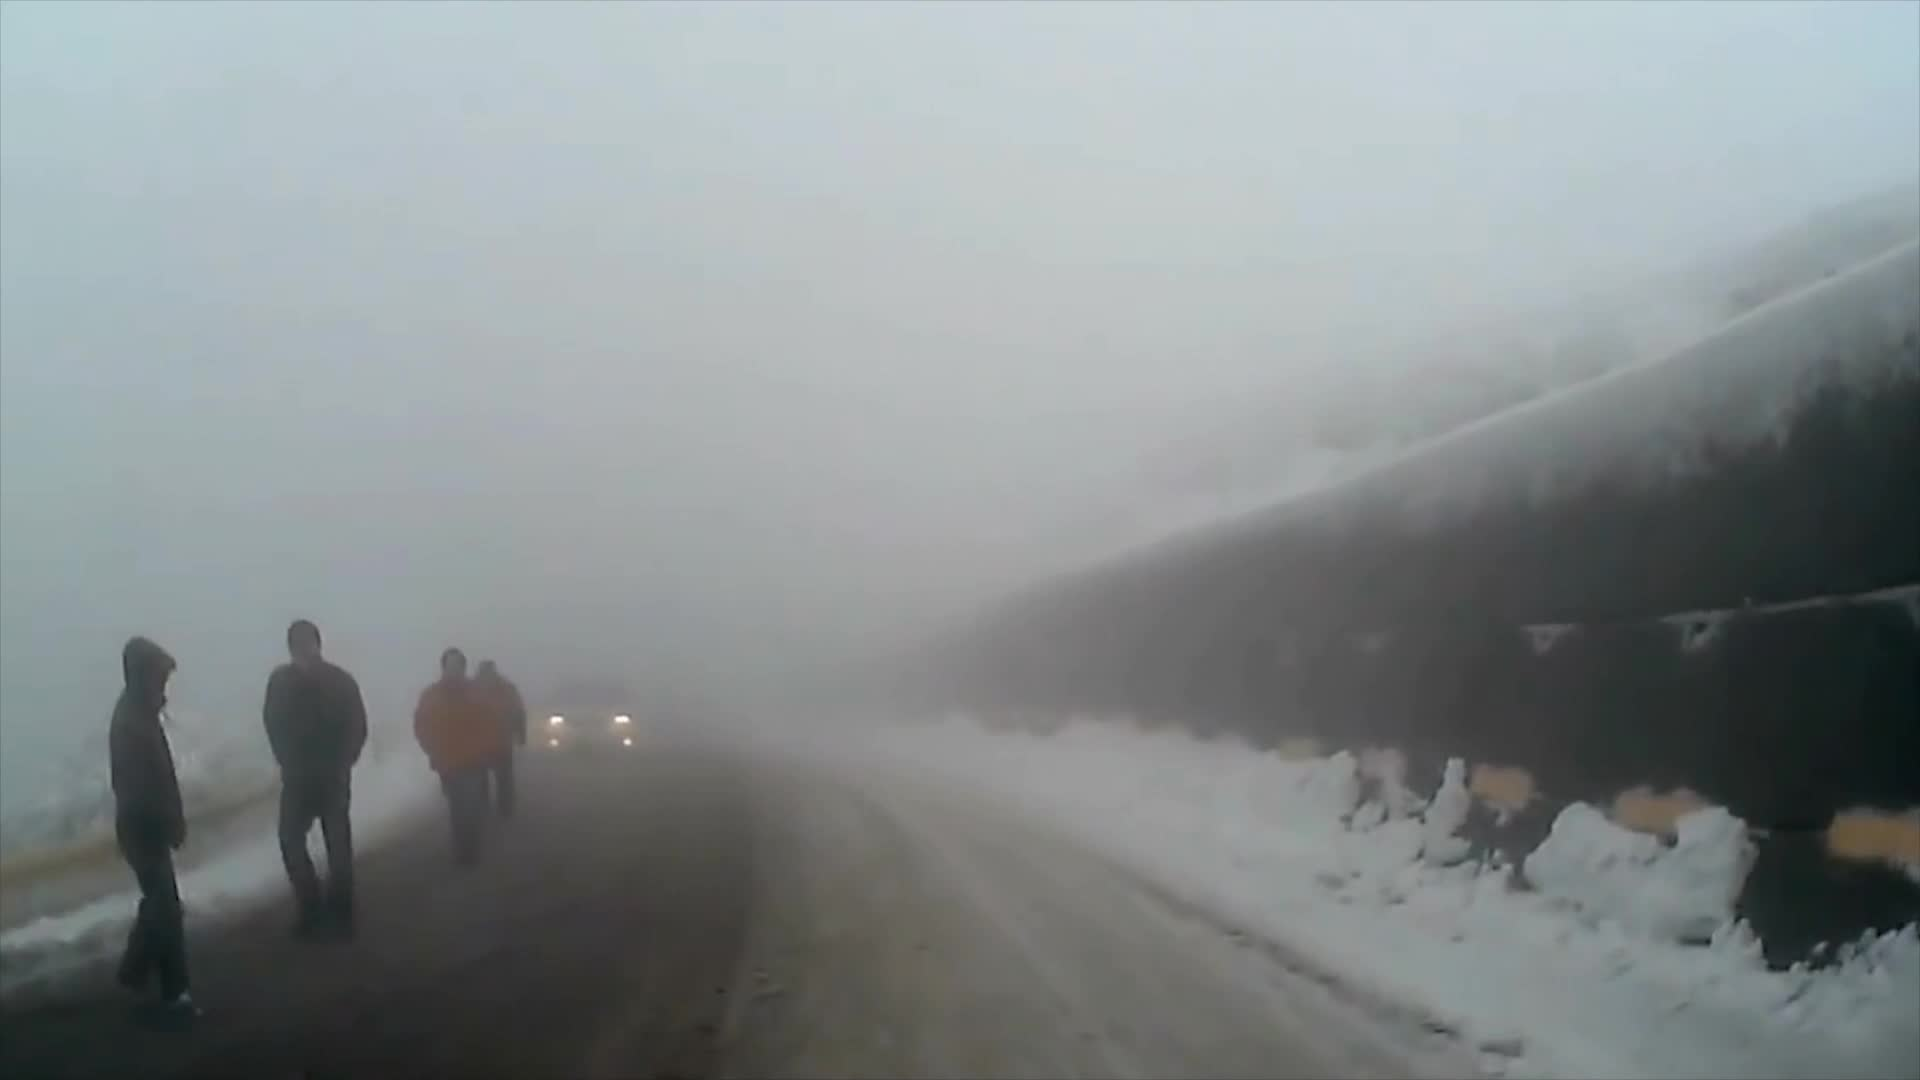pedestrian: (260, 621, 370, 945), (104, 635, 197, 1011), (409, 647, 504, 870)
vehicle: (542, 680, 638, 761)
